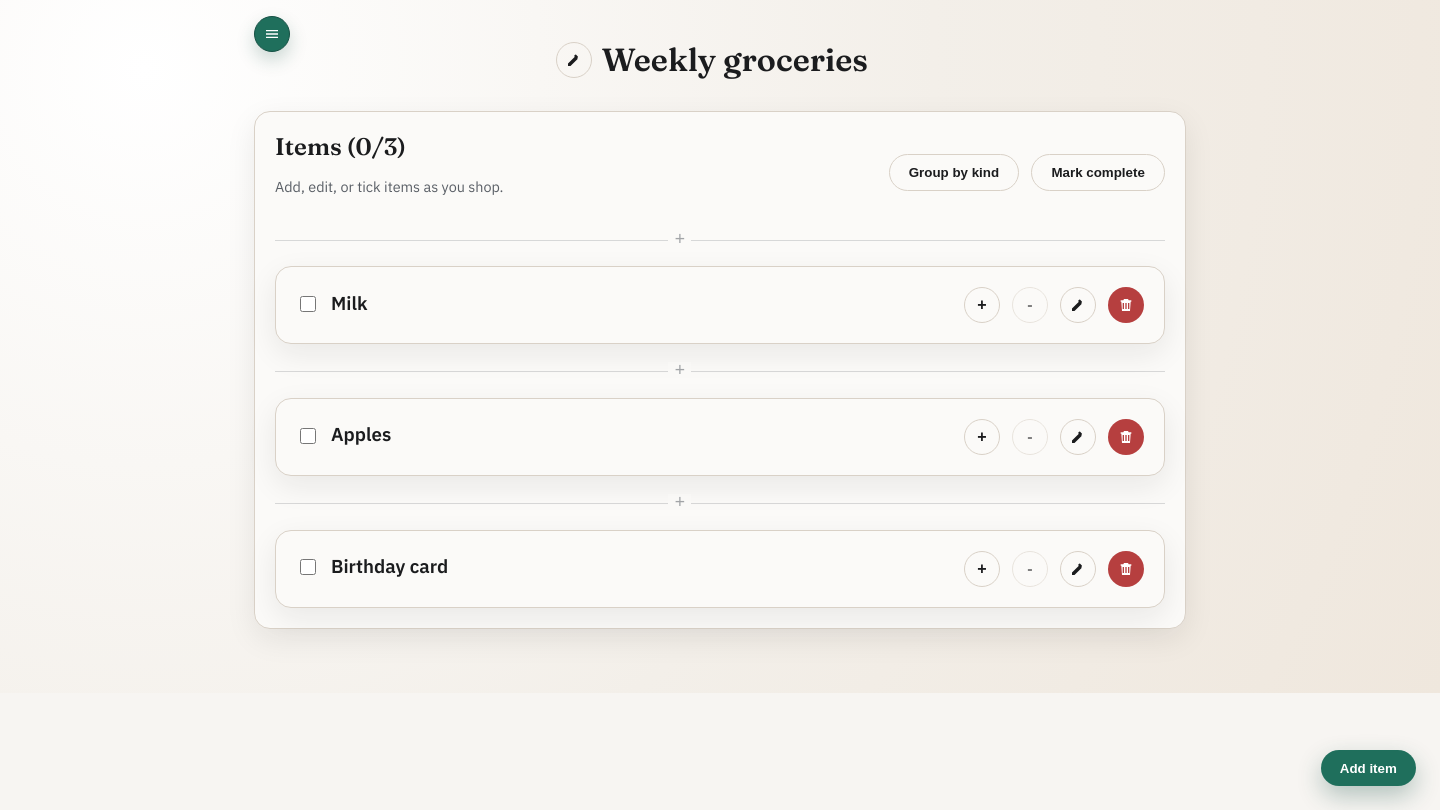
Group by kind on a list › keeps an item added during the wait, after the grouped items
Click the button "Group by kind": (954, 172) [889,154,1019,191]
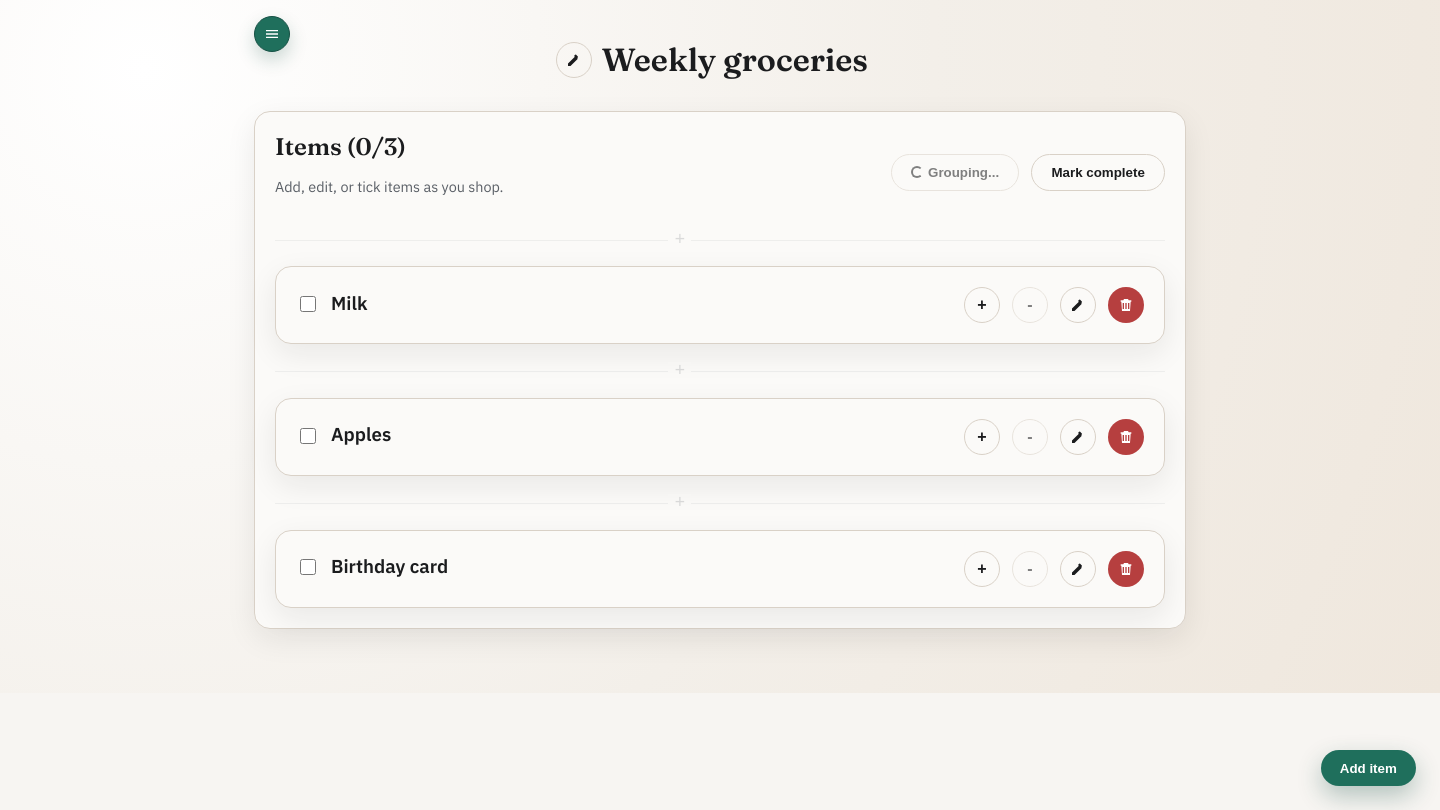
Click the button "Add item": (1368, 768) [1321,750,1416,786]
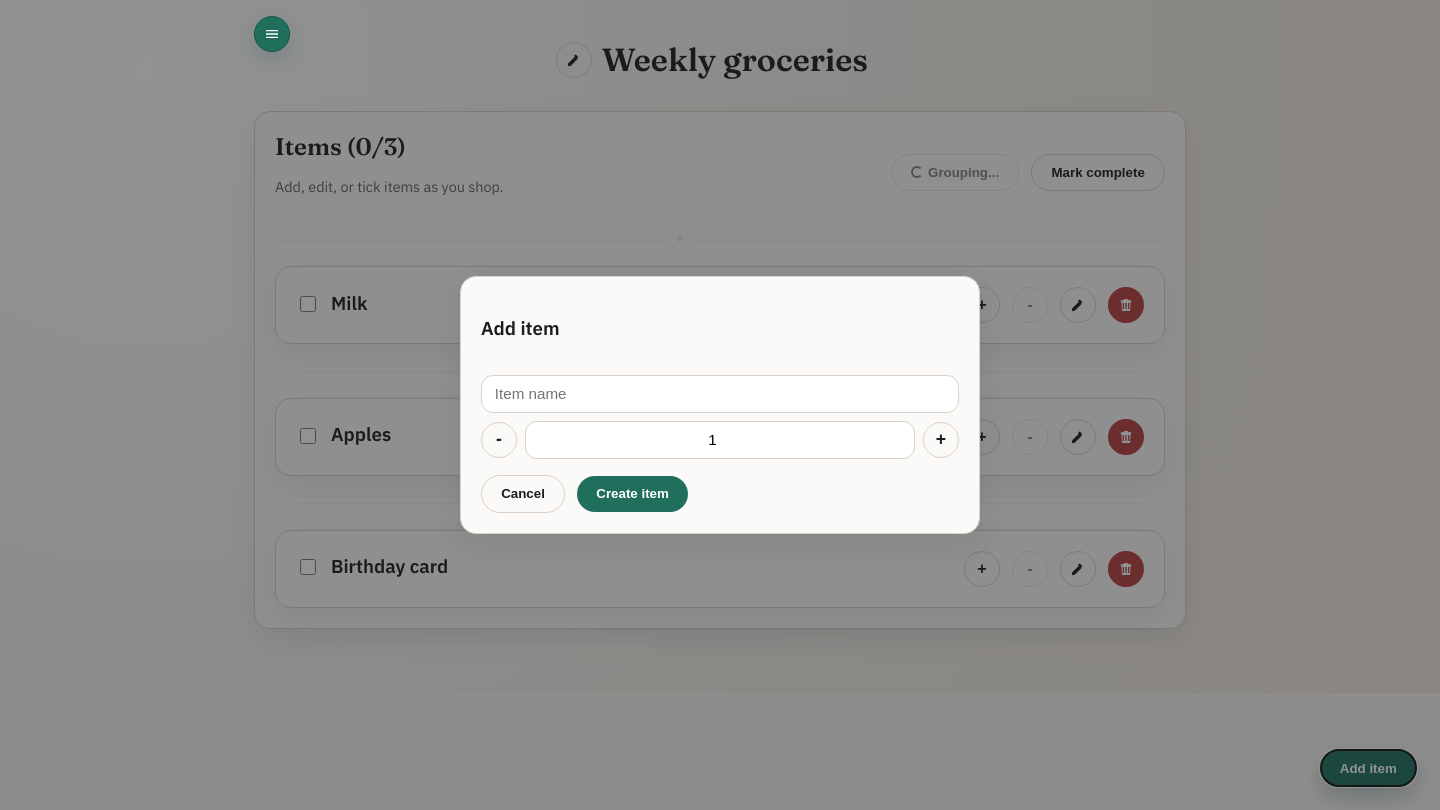
In the field with placeholder "Item name": (720, 394) [481,375,959,413], type "Eggs"
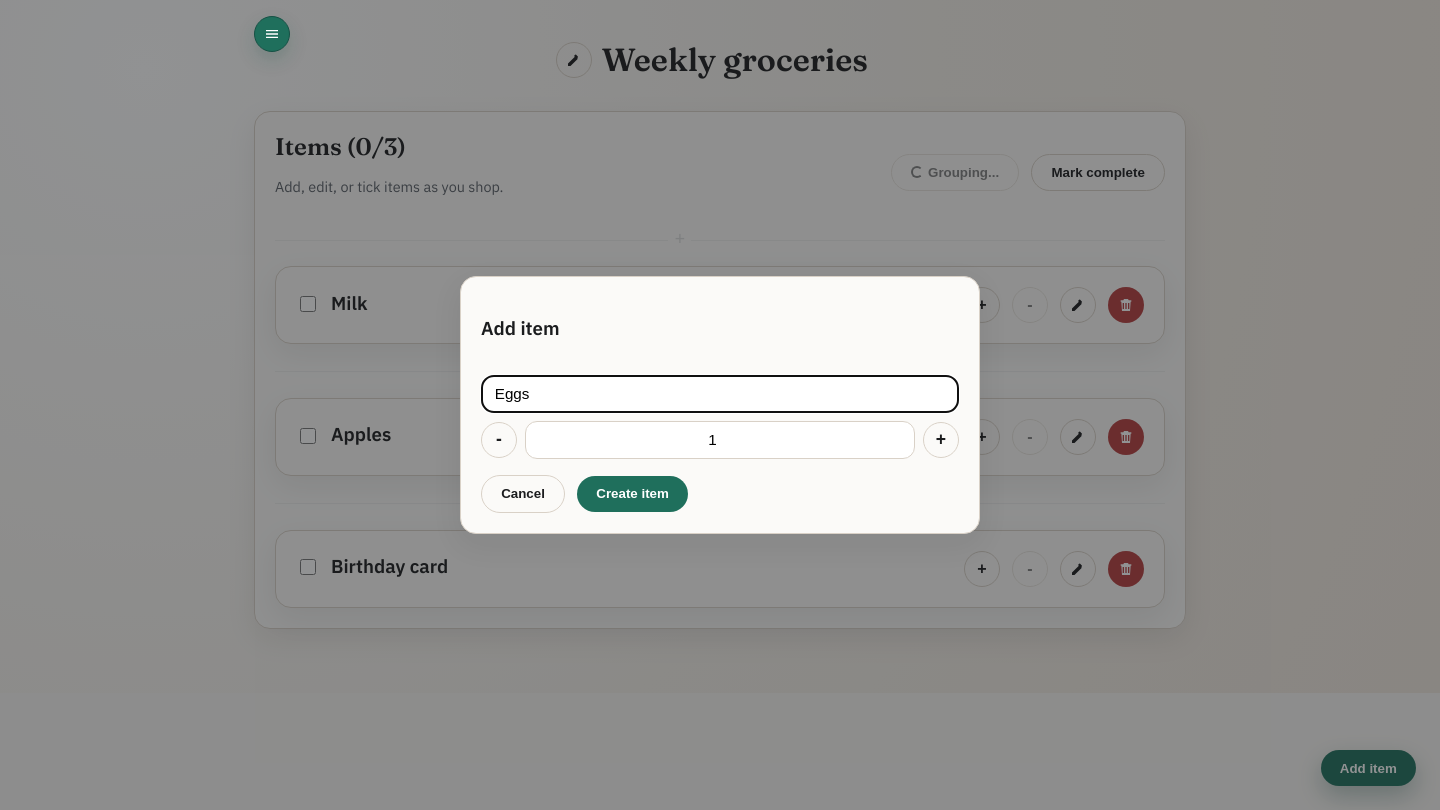
Click the button "Create item": (633, 494) [577,476,688,512]
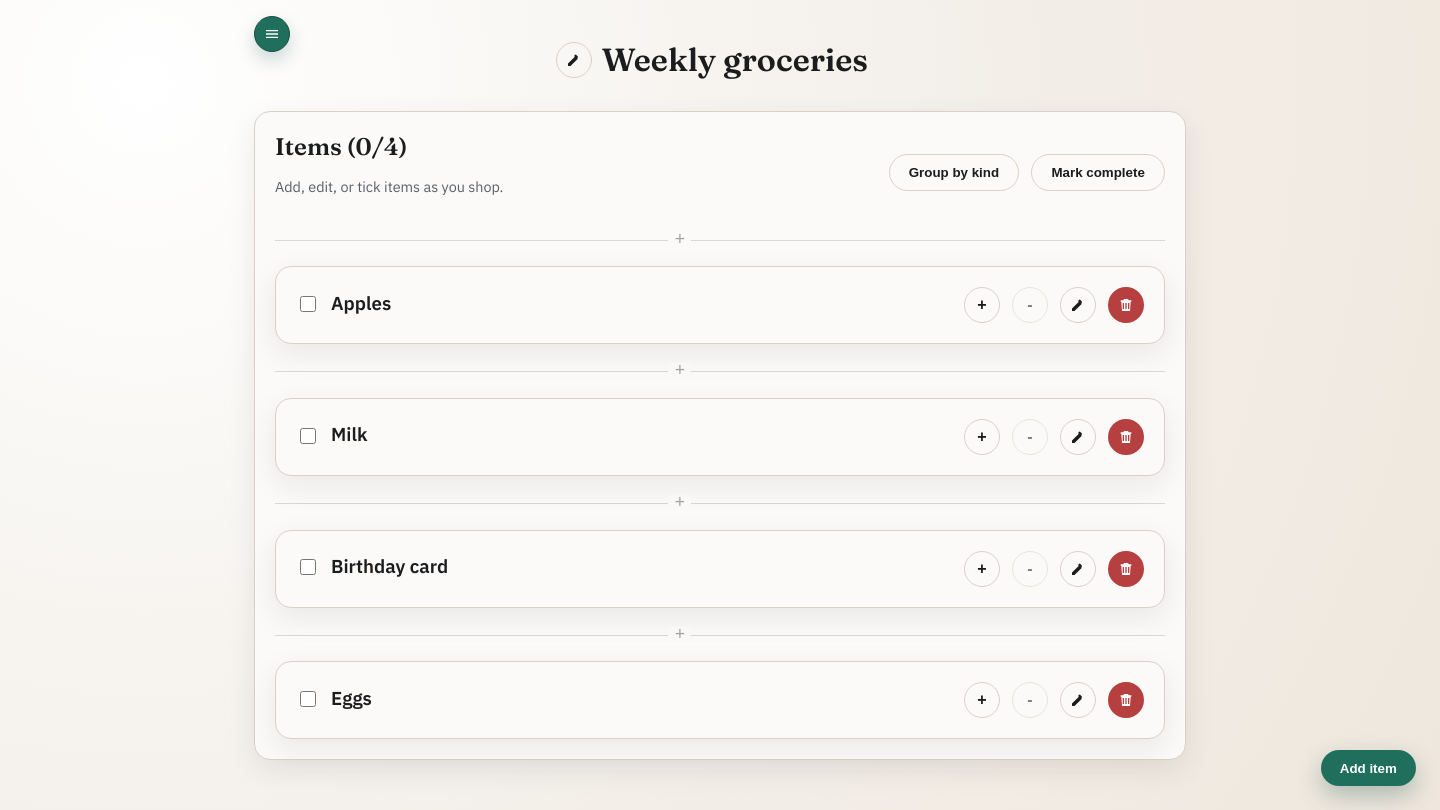
Result: the heading "Eggs" is shown at [331,686,372,710]
